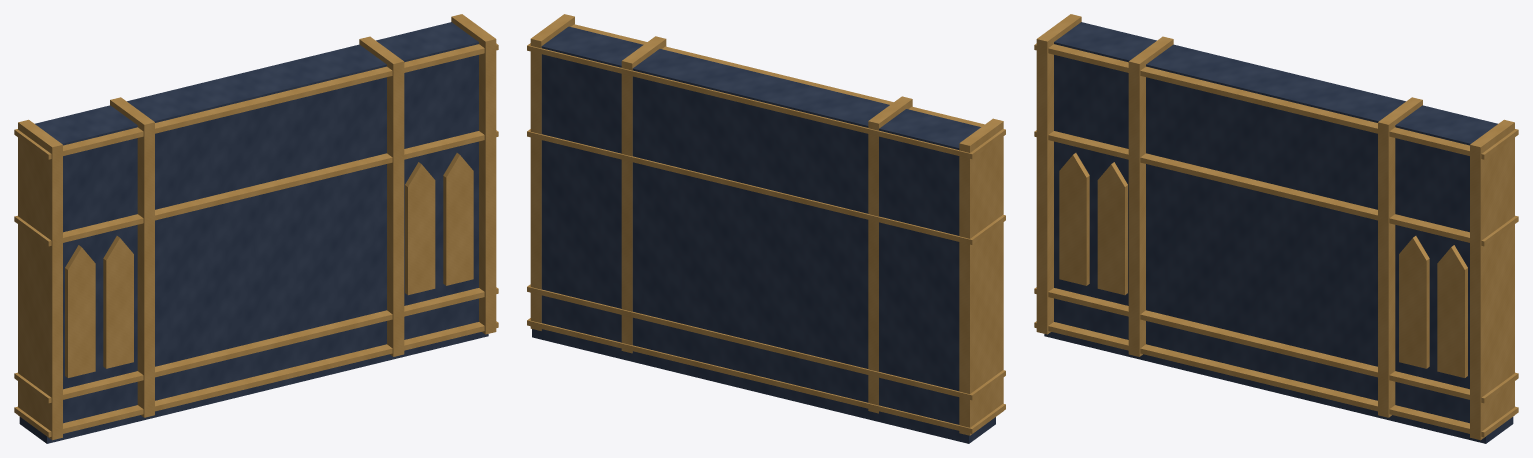
File: SM_Theater_Organ_Body.fbx
3 renders of one model, left to right at view 1: azimuth 30°, elevation 25°; view 2: azimuth 150°, elevation 25°; view 3: azimuth 330°, elevation 25°, orthographic.
Parts seen in each view (by area): view 1: SM_Theater_Organ_Body_LOD0; view 2: SM_Theater_Organ_Body_LOD0; view 3: SM_Theater_Organ_Body_LOD0.
Boxes of the visible parts, box(x1,y1,x2,y2) form: SM_Theater_Organ_Body_LOD0: box(14, 14, 498, 443); SM_Theater_Organ_Body_LOD0: box(527, 14, 1005, 443); SM_Theater_Organ_Body_LOD0: box(1034, 14, 1518, 443).
Size of what is drawn, in the model's own units: 10.8 by 6.92 by 1.45.
